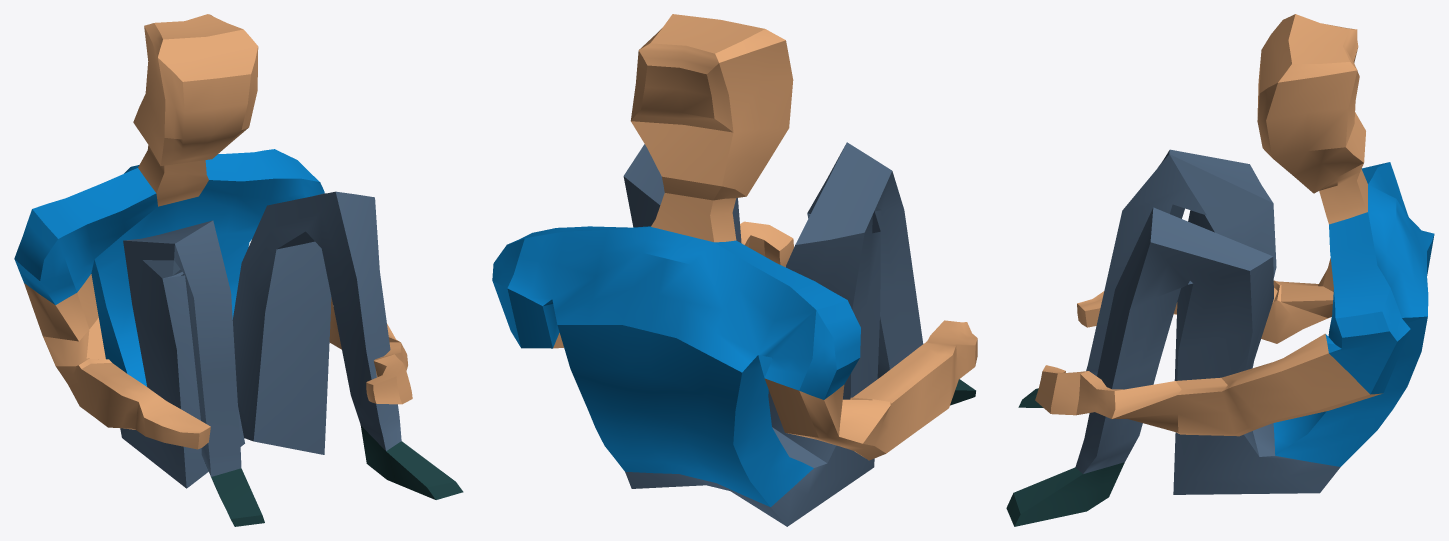
File: SoldierLidl.fbx
The picture shows the model from 3 angles, left to right: view 1: azimuth 30°, elevation 25°; view 2: azimuth 150°, elevation 25°; view 3: azimuth 270°, elevation 25°; orthographic projection. The views are drawn at different scales.
Visible parts, largest first — view 1: Cube.014; view 2: Cube.014; view 3: Cube.014.
Part boxes in pixels (x1,y1,x2,y2): Cube.014: [14, 14, 463, 526]; Cube.014: [492, 14, 977, 526]; Cube.014: [1006, 14, 1434, 526].
Bounding box in the file's own units: 2619 × 3477 × 3159.
